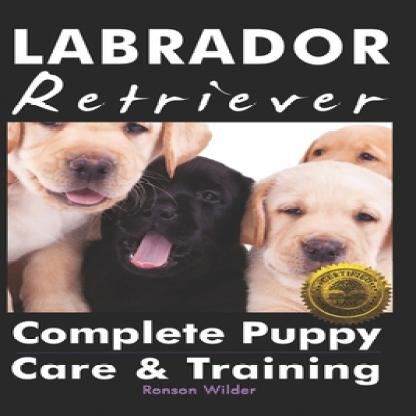dog: (2, 122, 208, 315), (240, 167, 416, 323), (301, 130, 396, 165)
